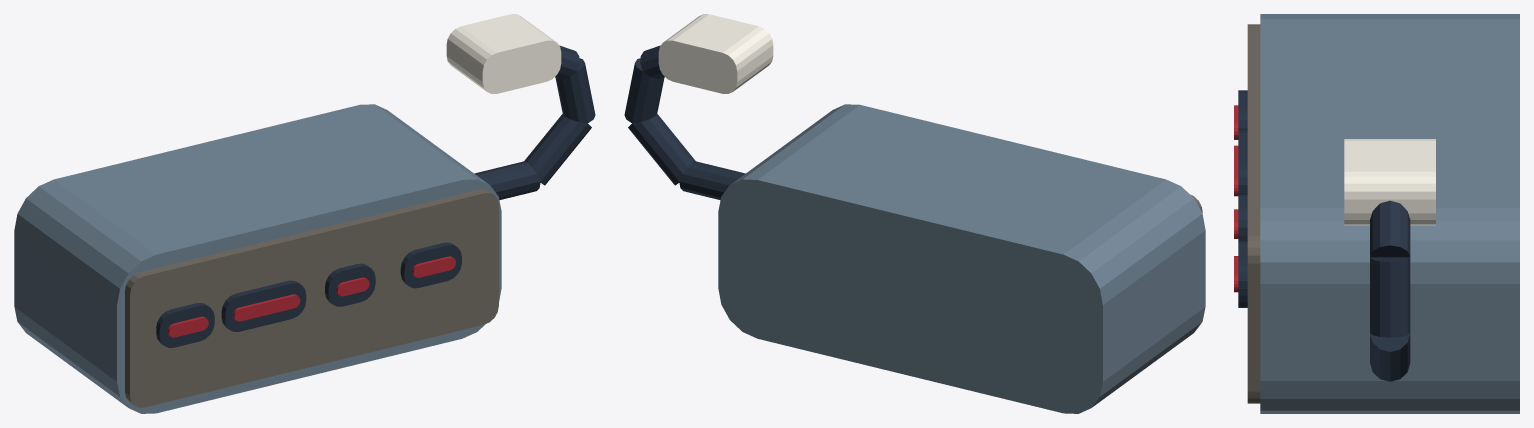
Rendered from adapterhub.glb.
The picture shows the model from 3 angles, left to right: view 1: azimuth 30°, elevation 25°; view 2: azimuth 150°, elevation 25°; view 3: azimuth 270°, elevation 25°; orthographic projection. The views are drawn at different scales.
Visible parts, largest first — view 1: shell, face, plug, port 1, cable1, port 3, cable2, cable0, port 0, port 2, port tongue 1, port tongue 3 (+2 smaller); view 2: shell, plug, cable1, cable2, cable0, cable3; view 3: shell, plug, face, cable2, cable3, cable1, port 3, port 1, port 2, port 0.
Boxes of the visible parts, box(x1,y1,x2,y2) form: shell: box(14, 104, 501, 413); face: box(125, 189, 498, 407); plug: box(446, 14, 561, 93); port 1: box(221, 280, 306, 331); cable1: box(524, 114, 591, 185); port 3: box(400, 242, 461, 288); cable2: box(555, 58, 595, 123); cable0: box(474, 161, 540, 200); port 0: box(156, 303, 214, 347); port 2: box(325, 263, 375, 306); port tongue 1: box(233, 294, 300, 321); port tongue 3: box(412, 256, 455, 277); shell: box(718, 104, 1205, 413); plug: box(658, 14, 773, 93); cable1: box(628, 114, 695, 185); cable2: box(624, 58, 664, 123); cable0: box(679, 161, 745, 200); cable3: box(640, 45, 664, 78); shell: box(1260, 14, 1519, 413); plug: box(1344, 139, 1435, 225); face: box(1247, 24, 1260, 403); cable2: box(1370, 257, 1410, 337); cable3: box(1370, 200, 1410, 257); cable1: box(1370, 333, 1410, 381); port 3: box(1238, 241, 1247, 307); port 1: box(1238, 130, 1247, 194); port 2: box(1238, 194, 1247, 241); port 0: box(1238, 90, 1247, 130).
Bounding box in the file's own units: 2.02 × 0.895 × 0.749.
